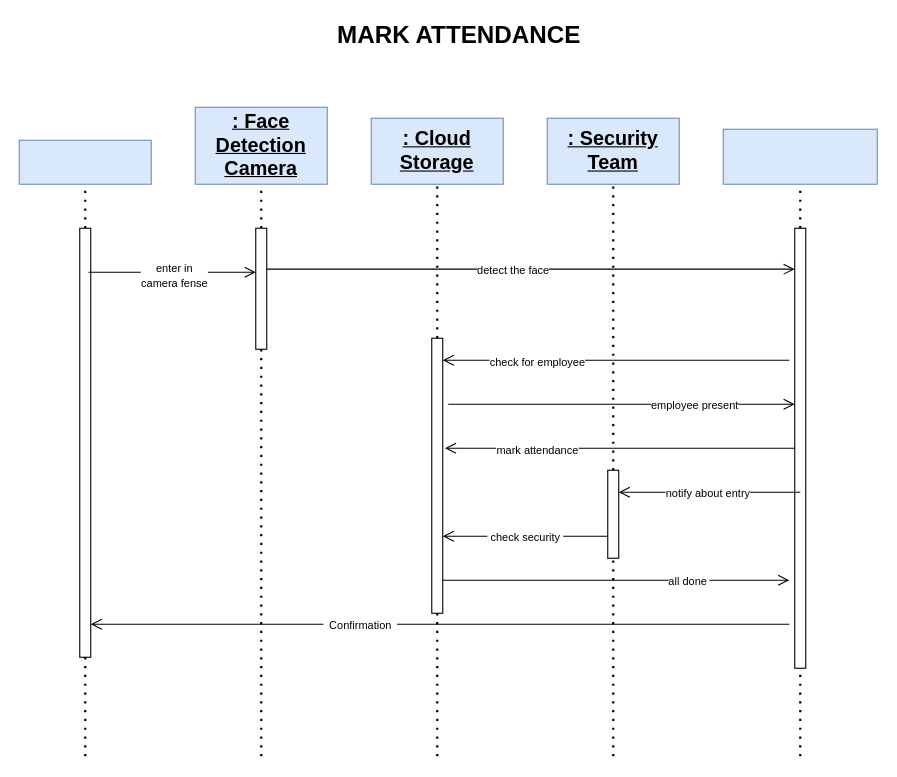
The diagram is 897 pixels wide and 777 high, and some of its shapes have lost their labels. The centre of each missing label's shape, as x and y in pixels:
: Administrator: the point at 799,156
: Employee: the point at 84,161
